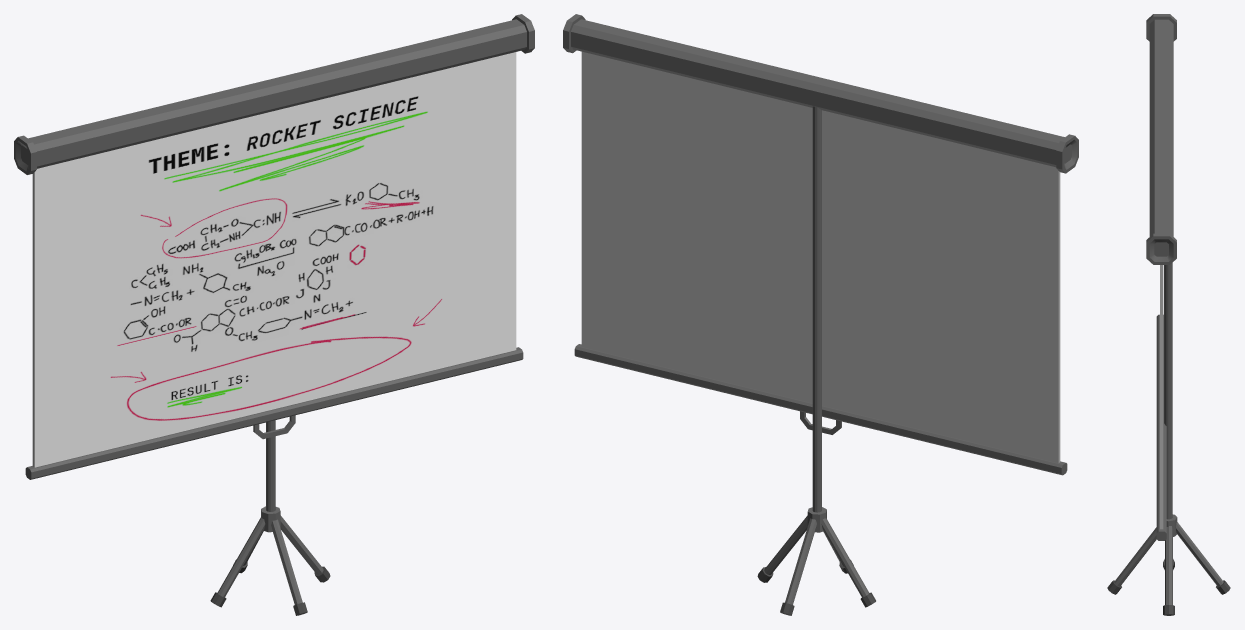
Rendered from SM_Stand_01.fbx.
3 views of the same model, side by side, from view 1: azimuth 30°, elevation 25°; view 2: azimuth 150°, elevation 25°; view 3: azimuth 270°, elevation 25° (orthographic). The views are drawn at different scales.
Visible parts, largest first — view 1: SM_Stand_01; view 2: SM_Stand_01; view 3: SM_Stand_01.
Part boxes in pixels (x1,y1,x2,y2): SM_Stand_01: (14, 14, 534, 615); SM_Stand_01: (563, 14, 1078, 615); SM_Stand_01: (1107, 14, 1230, 615).
Bounding box in the file's own units: 455 × 447 × 107.
